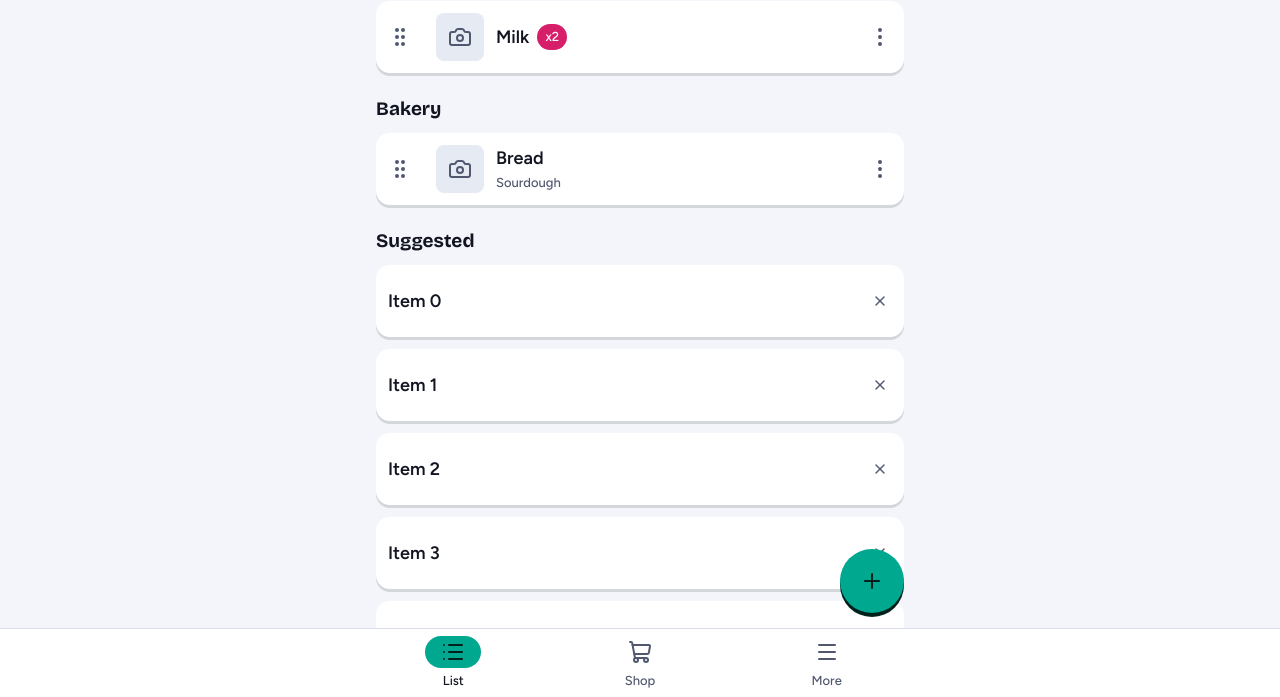
Test: Suggested items › hides a suggestion for this visit without changing the item and fills its place
What coordinates should you click on to do the following:
click the button named "Hide Item 0 suggestion"
I would click on:
 (880, 301)
Its box is [856,277,904,325].
(page scrolled)
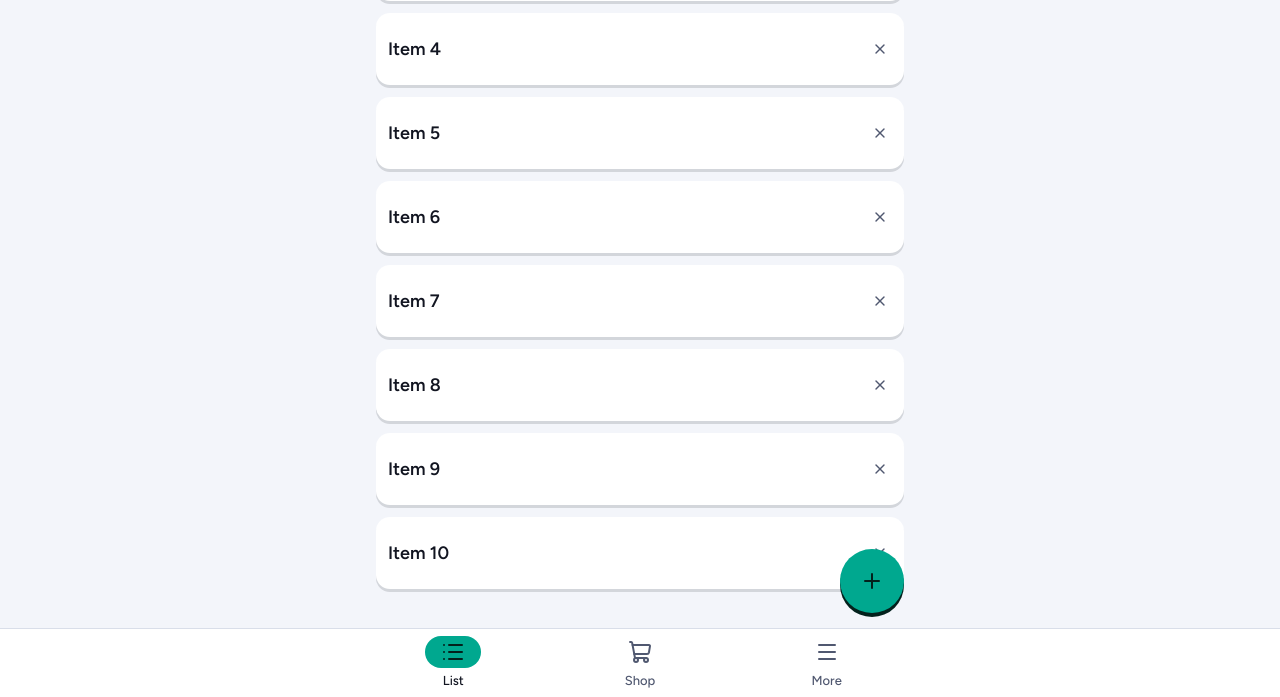
Now the button "Item 0" is gone
Now the text "Item 10" is shown, box [388,541,449,565]
